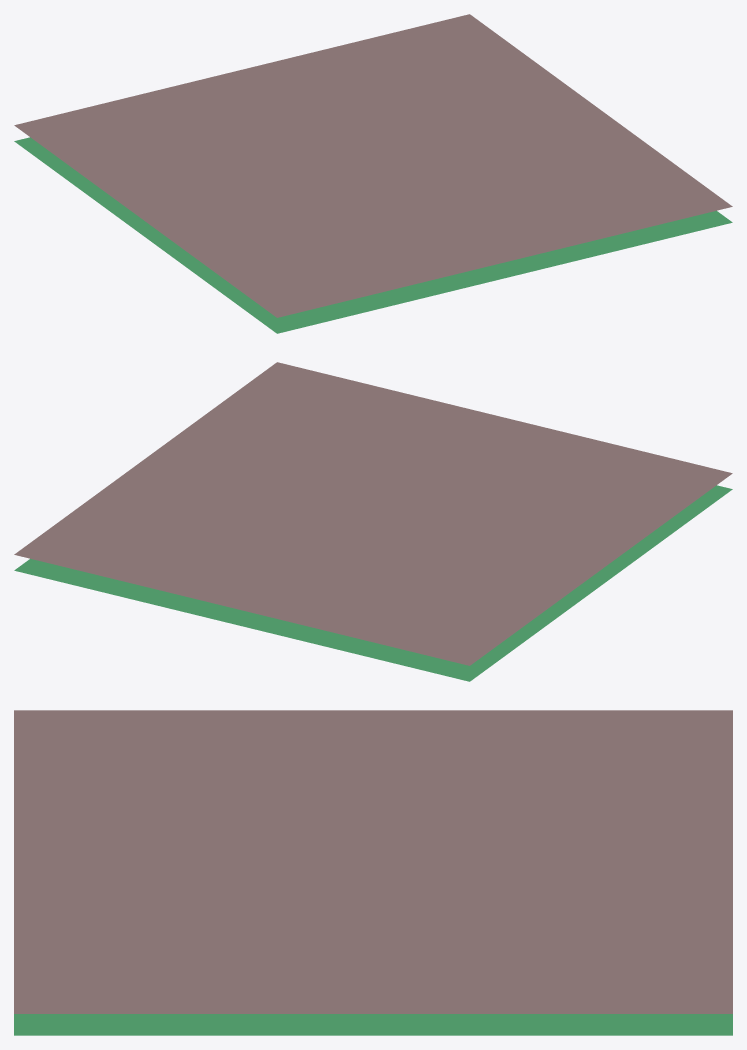
Rendered from sidewalk tile default lod1.FBX.
The picture shows the model from 3 angles, top to bottom: view 1: azimuth 30°, elevation 25°; view 2: azimuth 150°, elevation 25°; view 3: azimuth 270°, elevation 25°; orthographic projection. The views are drawn at different scales.
Visible parts, largest first — view 1: Plane046; view 2: Plane046; view 3: Plane046.
Boxes of the visible parts, box(x1,y1,x2,y2) form: Plane046: box(14, 14, 732, 333); Plane046: box(14, 362, 732, 681); Plane046: box(14, 710, 732, 1035).
Size of the model in its own units: 3 by 0.114 by 3.
